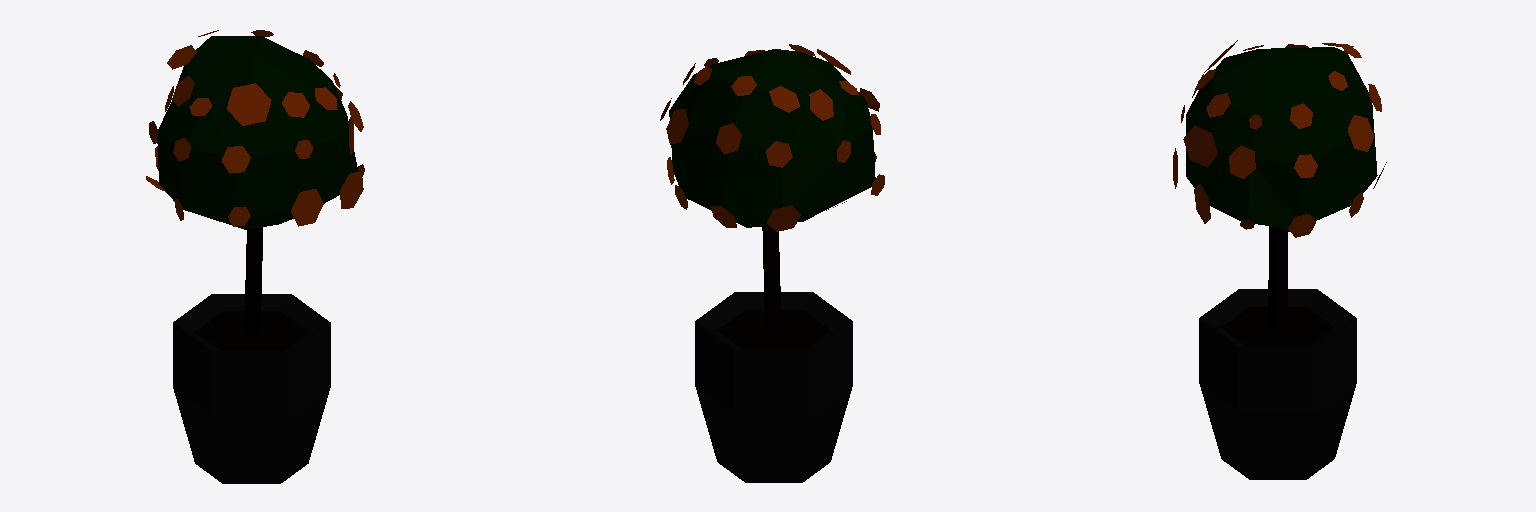
The model's file is FlowerPot7.obj.
The picture shows the model from 3 angles: view 1: azimuth 30°, elevation 25°; view 2: azimuth 150°, elevation 25°; view 3: azimuth 270°, elevation 25°; orthographic projection.
Parts seen in each view (by area): view 1: FlowerPot7_Cylinder.006; view 2: FlowerPot7_Cylinder.006; view 3: FlowerPot7_Cylinder.006.
Boxes of the visible parts, x1,y1,x2,y2 form: FlowerPot7_Cylinder.006: [146, 30, 364, 483]; FlowerPot7_Cylinder.006: [660, 44, 884, 482]; FlowerPot7_Cylinder.006: [1173, 40, 1386, 479].
Bounding box in the file's own units: 0.8847 × 1.81 × 0.8544.